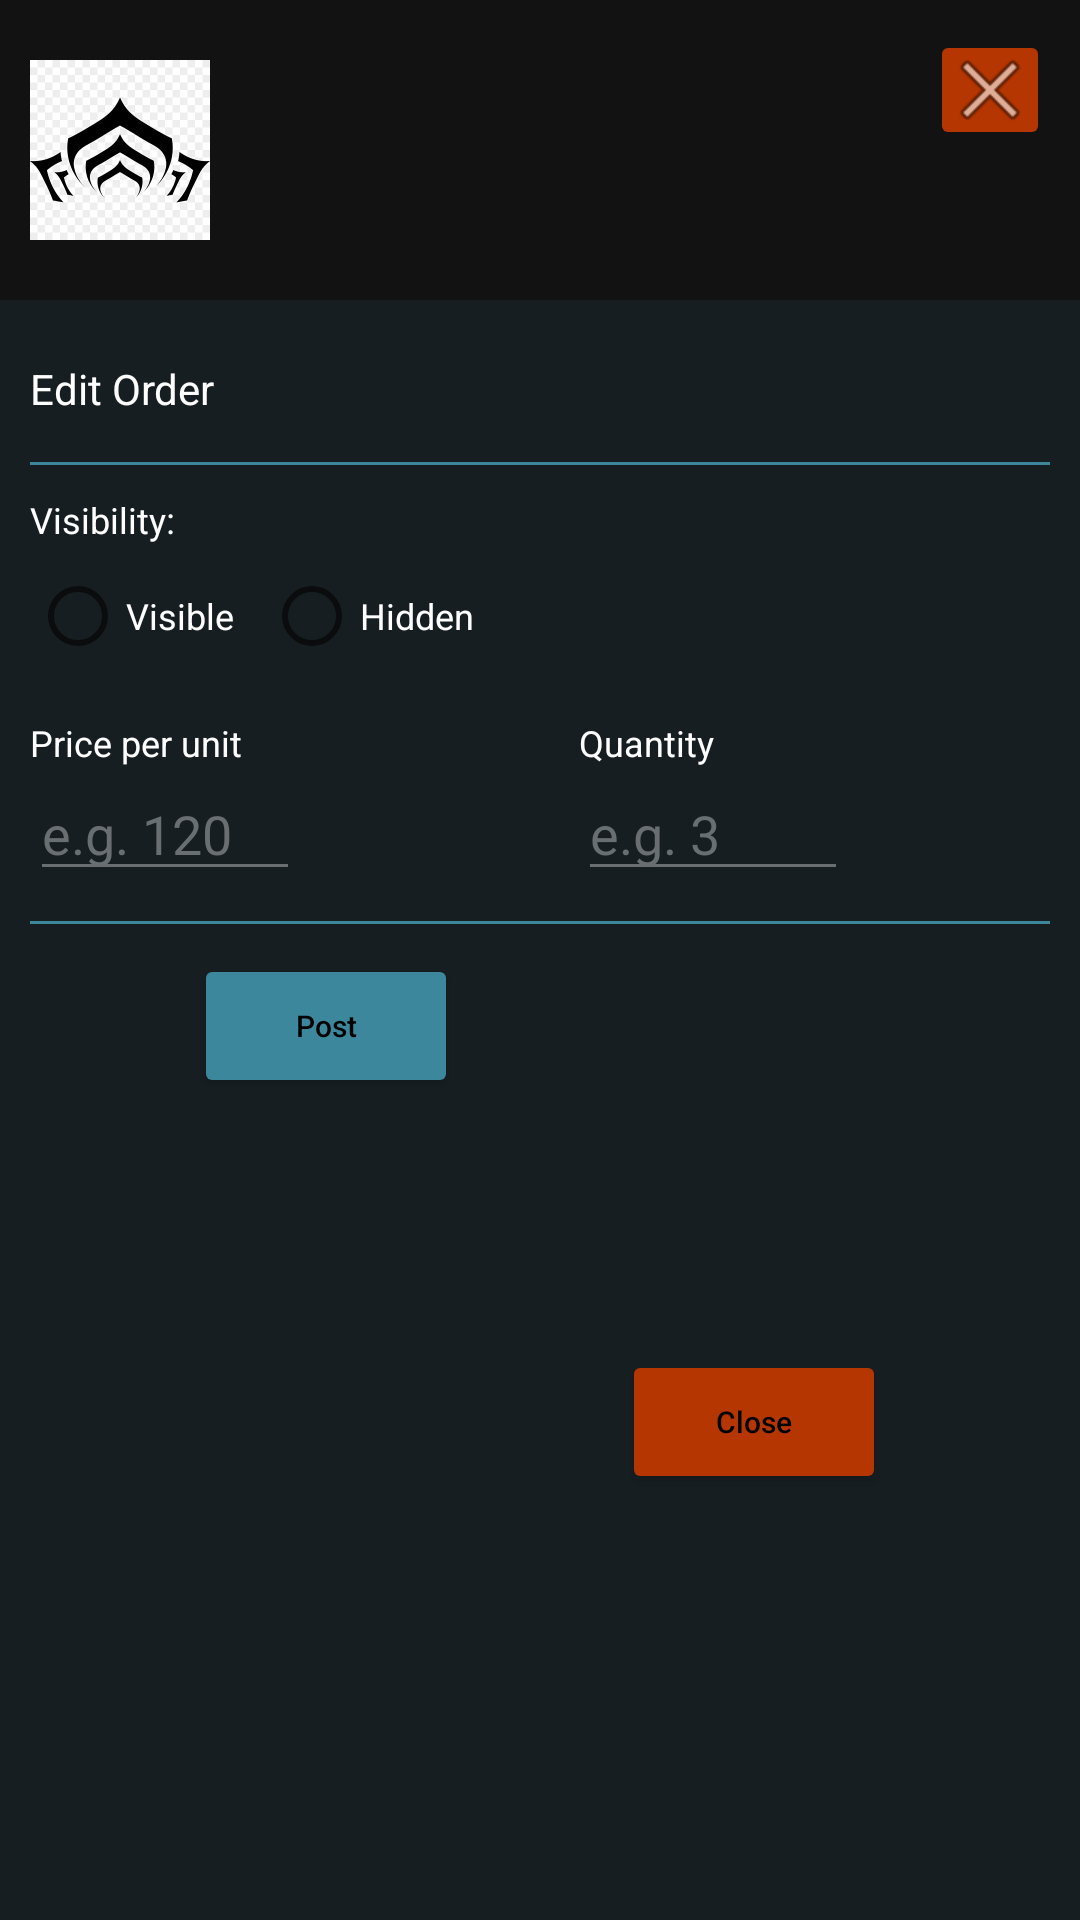

Icons on this 1080px x 1920px Android screen, each with the point to tap as (x,y):
close clear cancel: (990,90)
